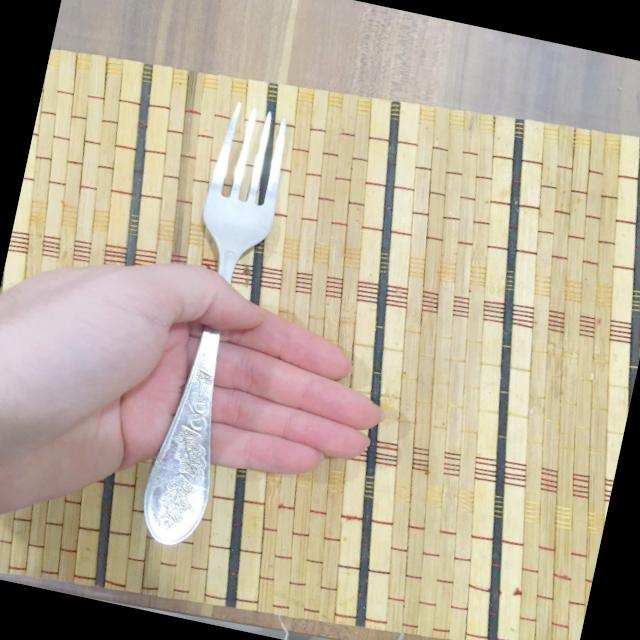fork: (132, 96, 296, 554)
